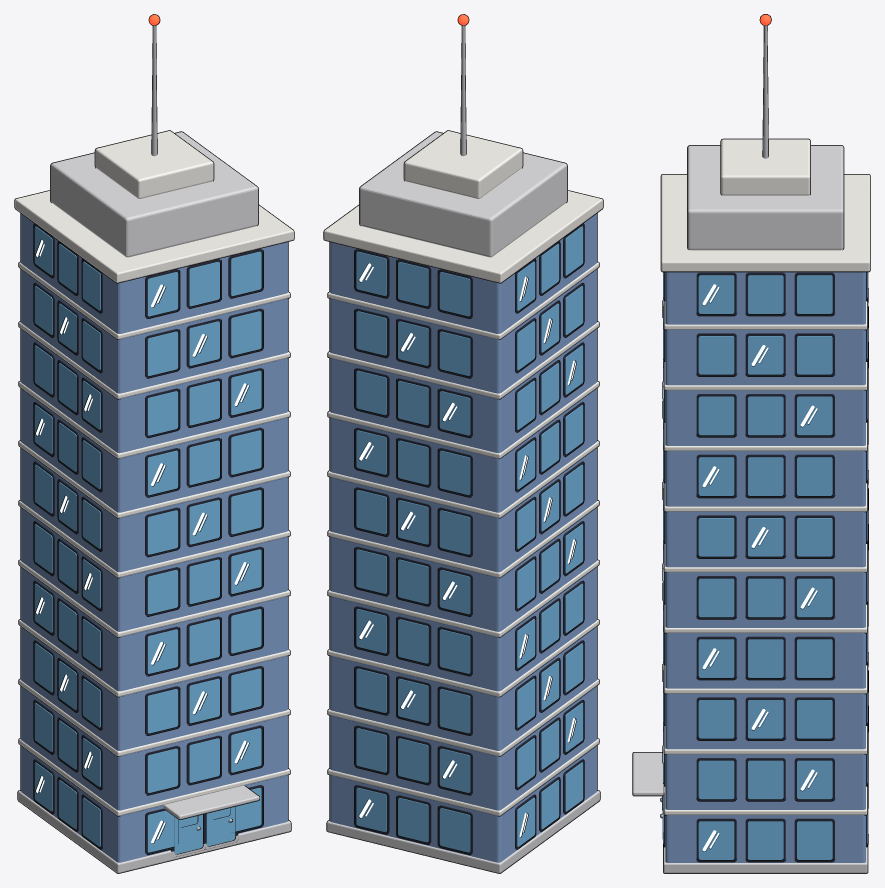
File: Building_Tall_Office.fbx
3 views of the same model, side by side, from view 1: azimuth 30°, elevation 25°; view 2: azimuth 150°, elevation 25°; view 3: azimuth 270°, elevation 25° (orthographic).
Visible parts, largest first — view 1: Building_Tall_Office; view 2: Building_Tall_Office; view 3: Building_Tall_Office.
Boxes of the visible parts, box(x1,y1,x2,y2) form: Building_Tall_Office: box(14, 14, 294, 873); Building_Tall_Office: box(323, 14, 603, 873); Building_Tall_Office: box(632, 14, 870, 873).
Size of the model in its own units: 18.82 by 80.82 by 21.37.
